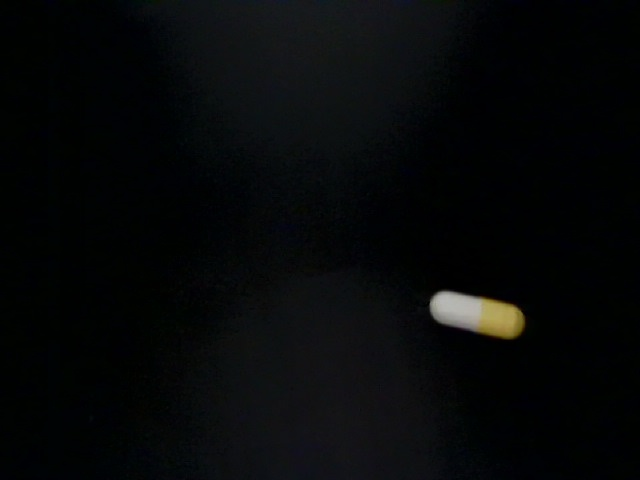YHLJ: (112, 147, 383, 270)
